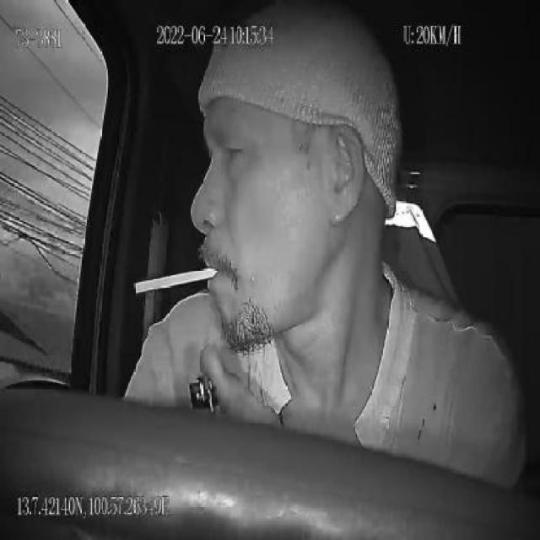smoking: (132, 260, 222, 295)
